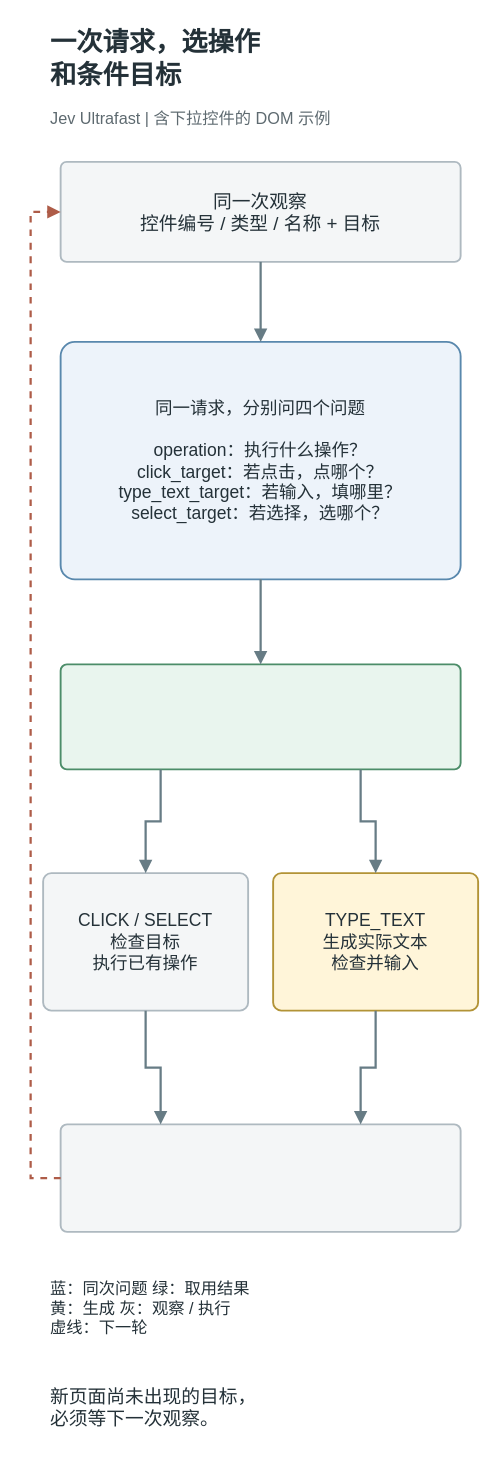
Some shapes in this 501 by 1460 pixel diagram are drawn without their labels. Each missing label, with the centre of its shape:
执行后重新观察 DONE 仍需独立结果检查: point (260, 1177)
按 operation 取用匹配的目标 未选中分支的答案不执行: point (260, 716)
